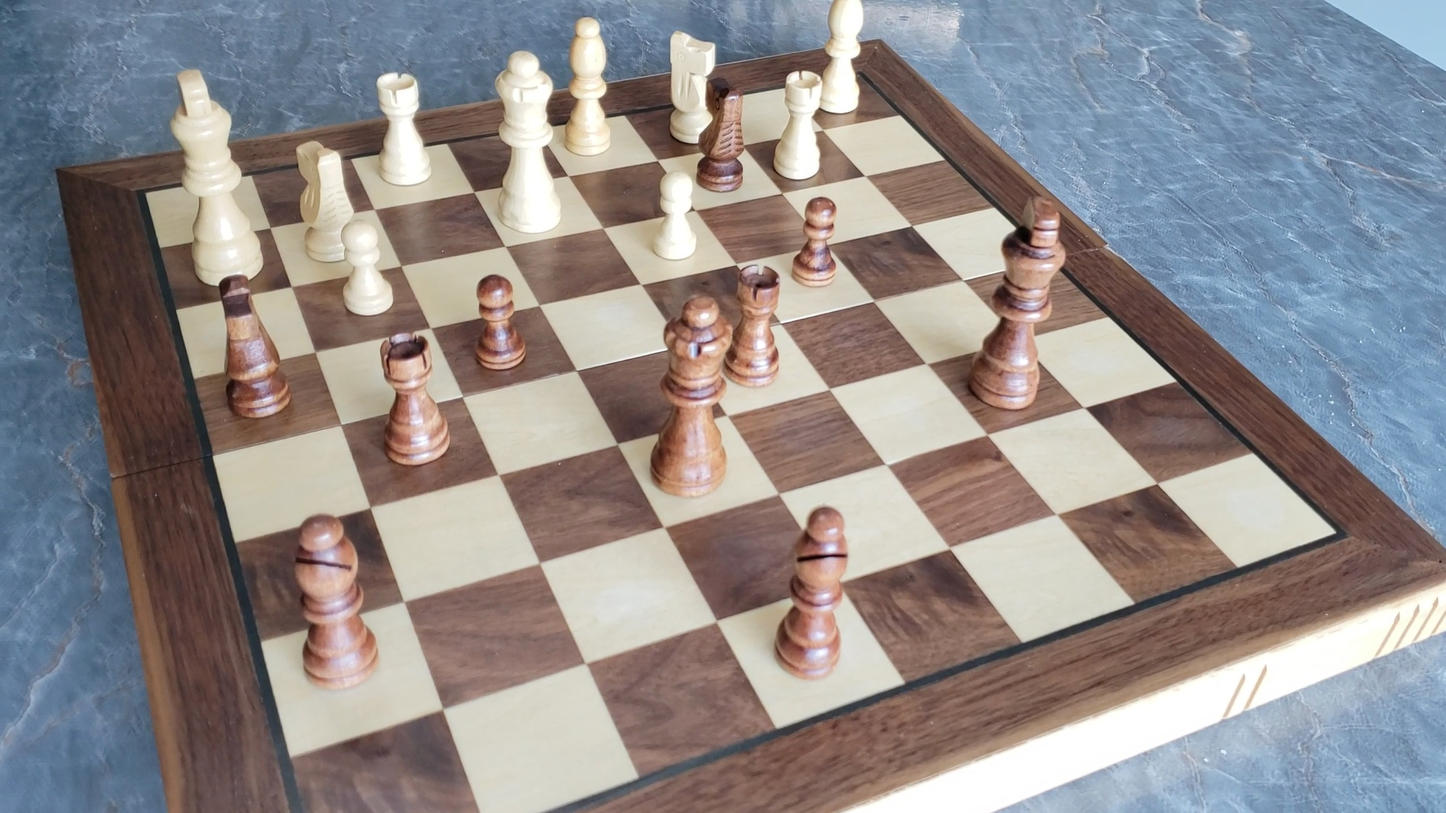black-bishop: (770, 501, 863, 686), (289, 510, 378, 691)
black-knight: (196, 271, 302, 432), (691, 72, 753, 201)
black-pawn: (472, 271, 528, 373), (792, 193, 841, 289)
black-queen: (968, 191, 1069, 410), (647, 291, 733, 499)
black-rook: (378, 329, 450, 467), (727, 262, 783, 387)
white-bishop: (564, 11, 613, 159), (816, 0, 873, 123)
white-king: (154, 58, 275, 294)
white-knight: (291, 137, 359, 266), (664, 16, 719, 148)
white-pawn: (333, 218, 400, 321), (646, 167, 705, 265)
white-queen: (490, 46, 565, 238)
white-rook: (372, 68, 432, 189), (771, 66, 828, 185)
